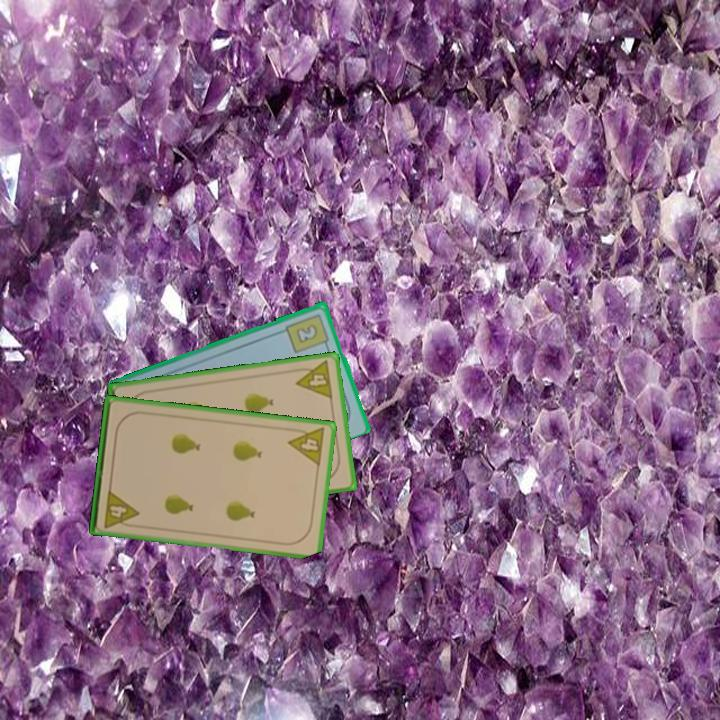2b: (283, 310, 332, 356)
4p: (291, 357, 335, 402), (285, 424, 328, 469), (100, 486, 141, 531)
